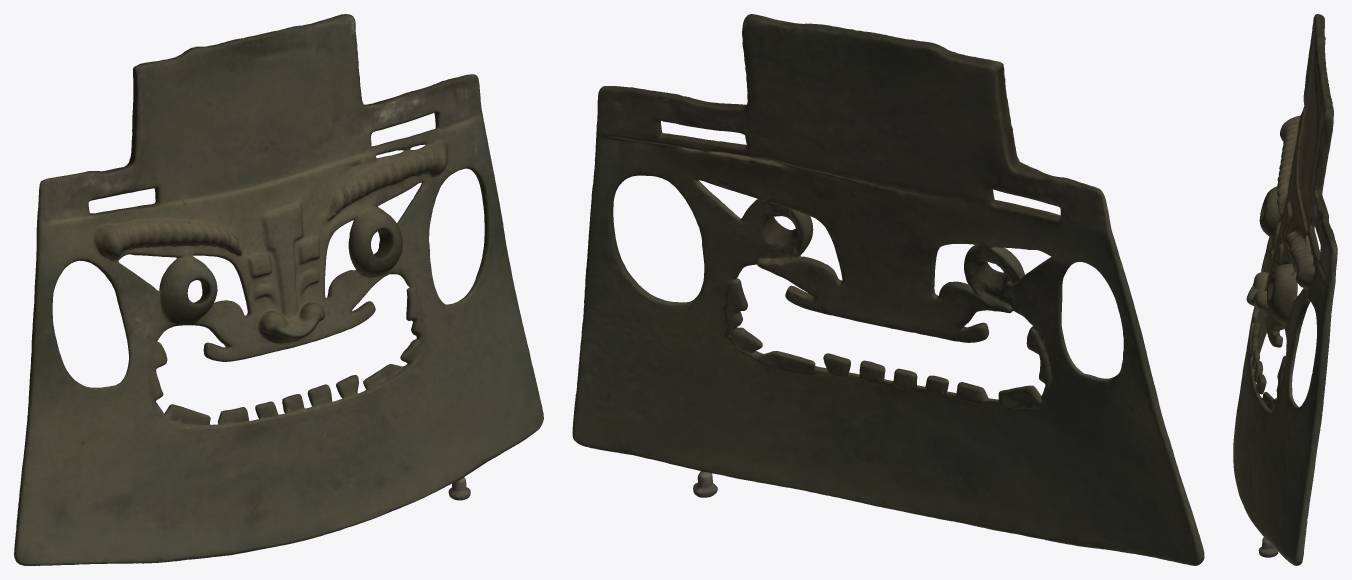
3 renders of one model, left to right at view 1: azimuth 30°, elevation 25°; view 2: azimuth 150°, elevation 25°; view 3: azimuth 270°, elevation 25°, orthographic. The views are drawn at different scales.
Size of the model in its own units: 1 by 0.8468 by 0.1912.
1 material, 1 textured.
